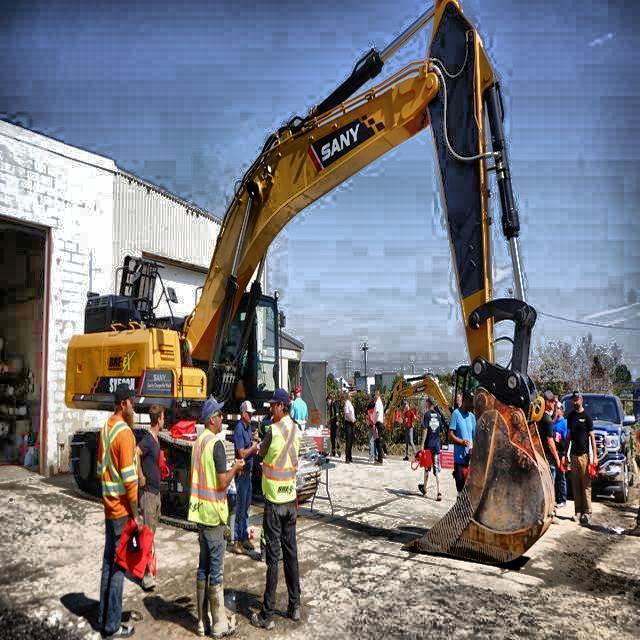excavator: (66, 0, 557, 569), (348, 372, 455, 435)
